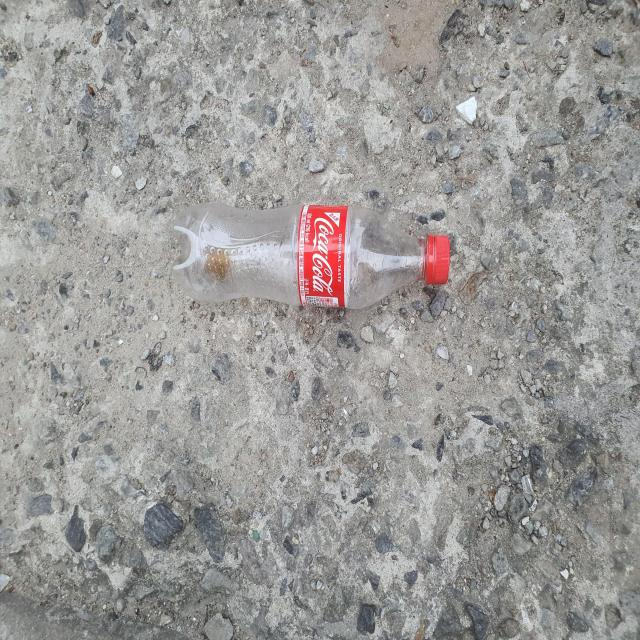plastic: (173, 202, 450, 309)
